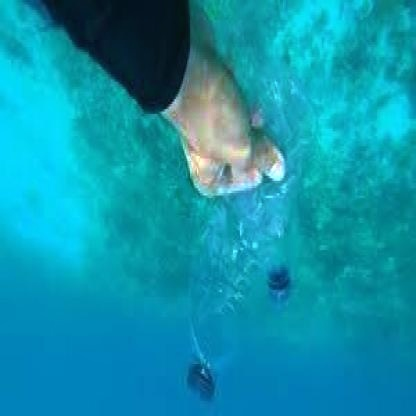pbottle: (178, 94, 310, 394), (222, 84, 309, 315)
